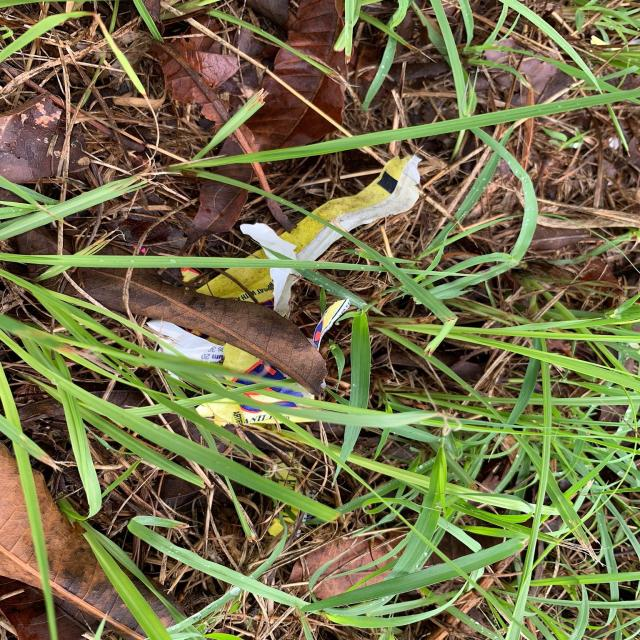litter: (146, 155, 425, 425)
